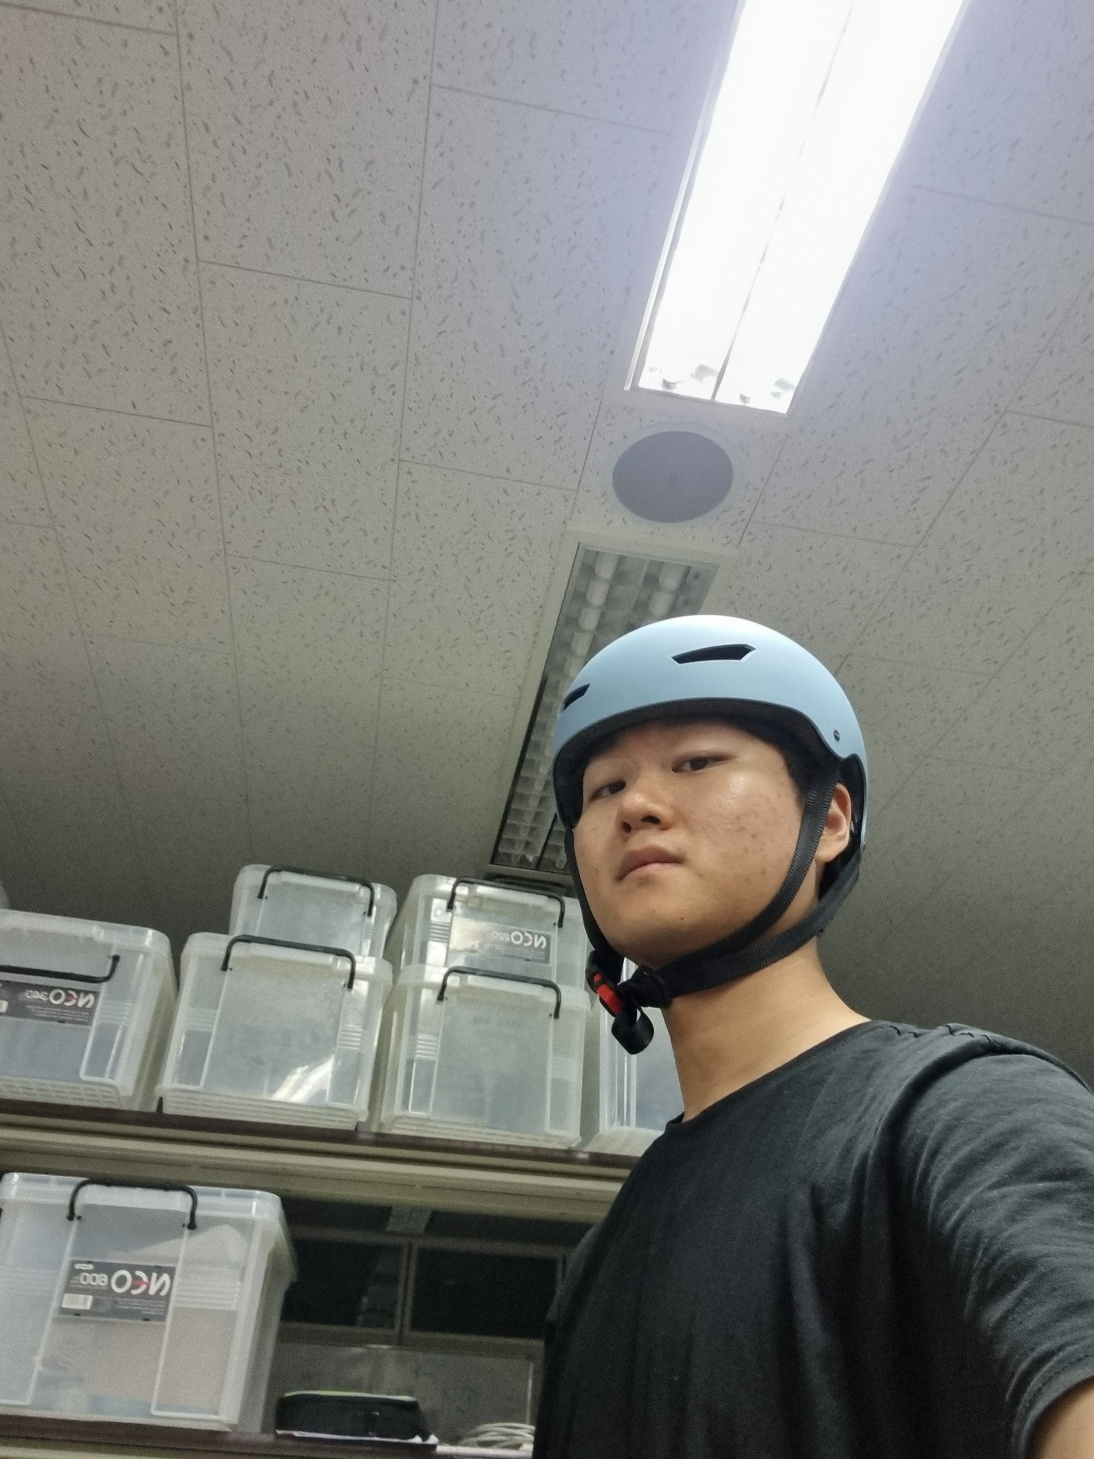Helmet: (527, 587, 912, 1019)
